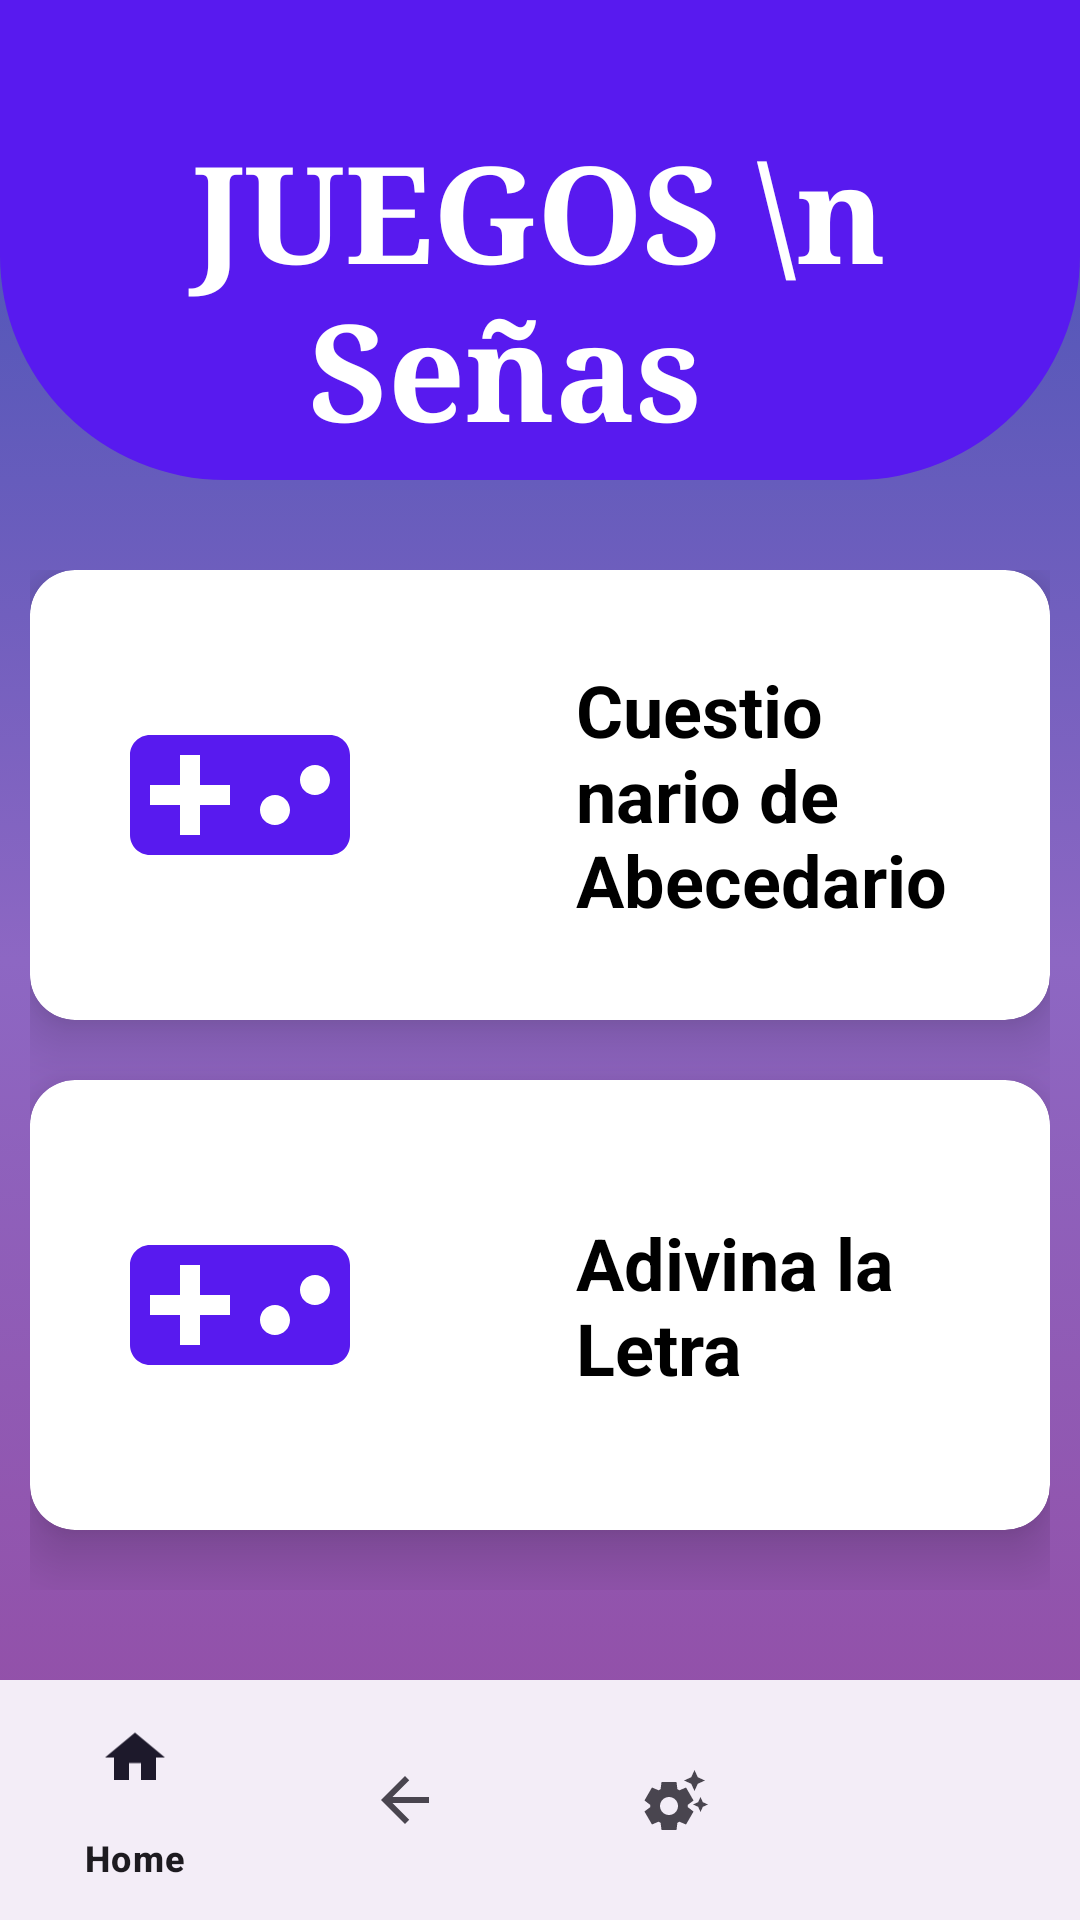

Icons on this 1080*1920 Android screen, each with its box as bbox=(x1, y1, x2, y2):
games: bbox=(130, 735, 350, 855), bbox=(130, 1245, 350, 1365)
